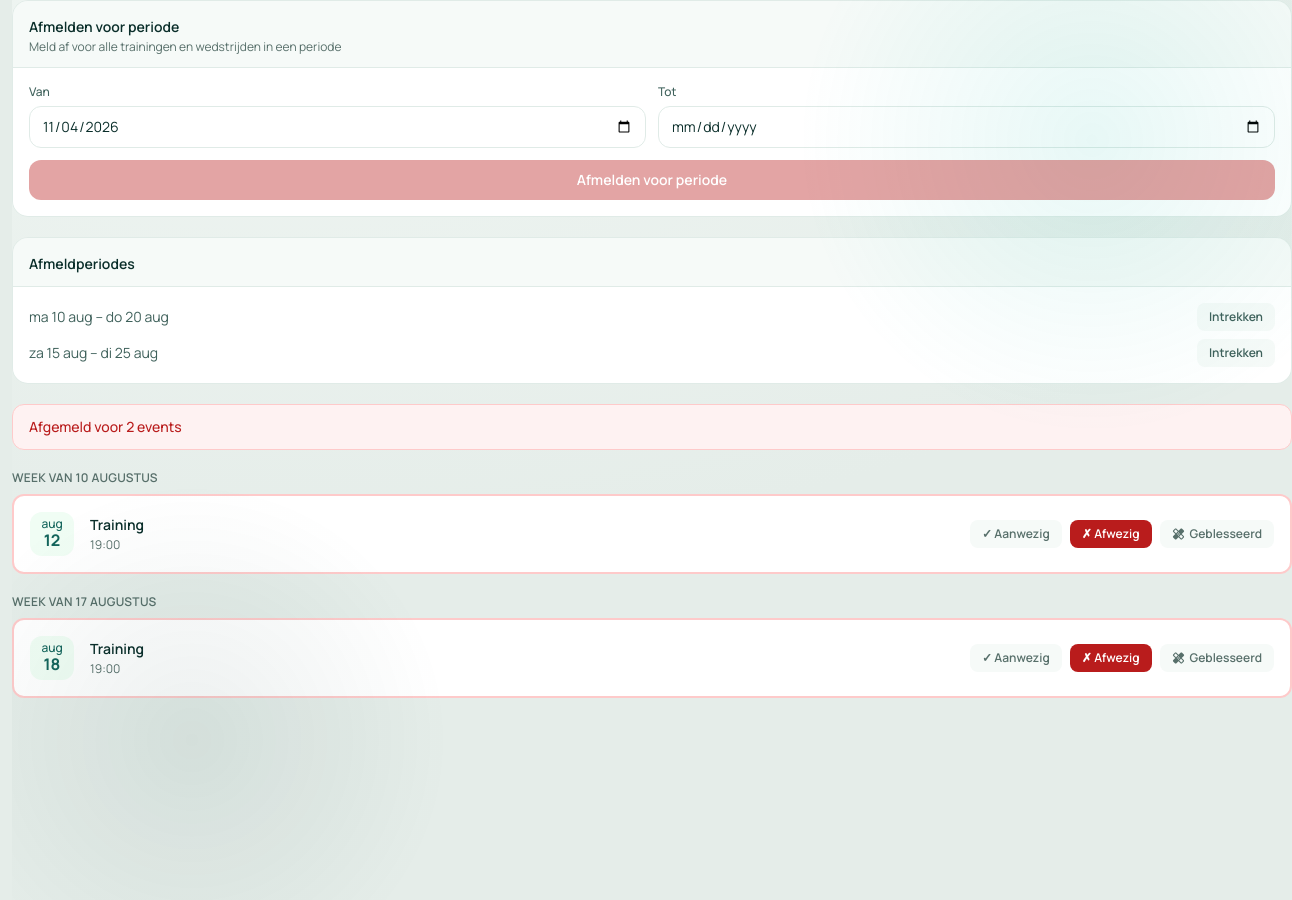
periodelijst › optimistische terugval: events zonder resterende dekking krijgen defaultStatus, events die nog door een andere periode gedekt worden blijven absent
period-1 loopt van/tot 10-20 aug.
Click the button "Intrekken" in the row of "ma 10 aug – do 20 aug". click: (1236, 317)
box: [1197, 303, 1275, 331]
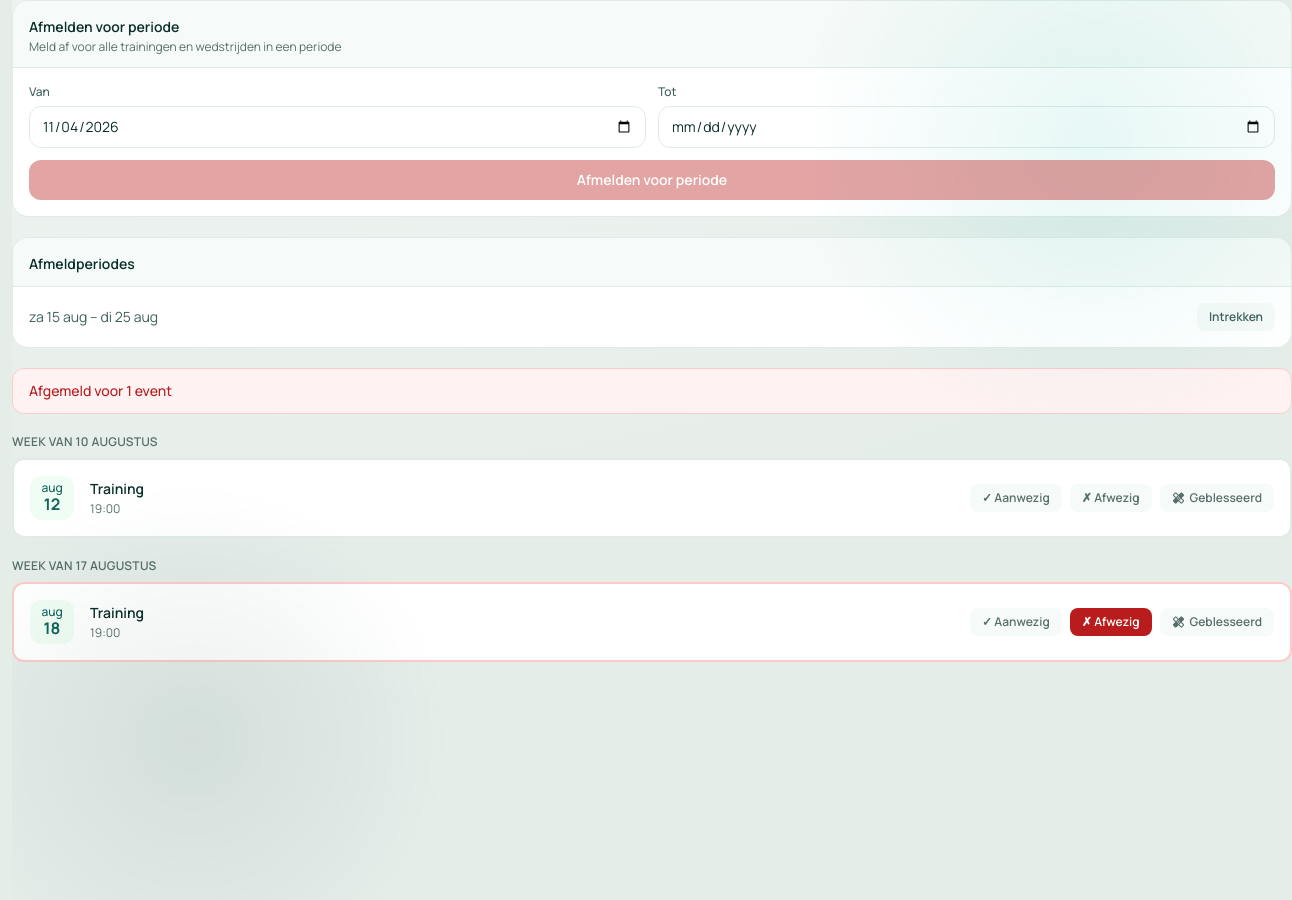
Result: the number of buttons named "Periode intrekken" is 1 at [1197, 303, 1275, 331]
